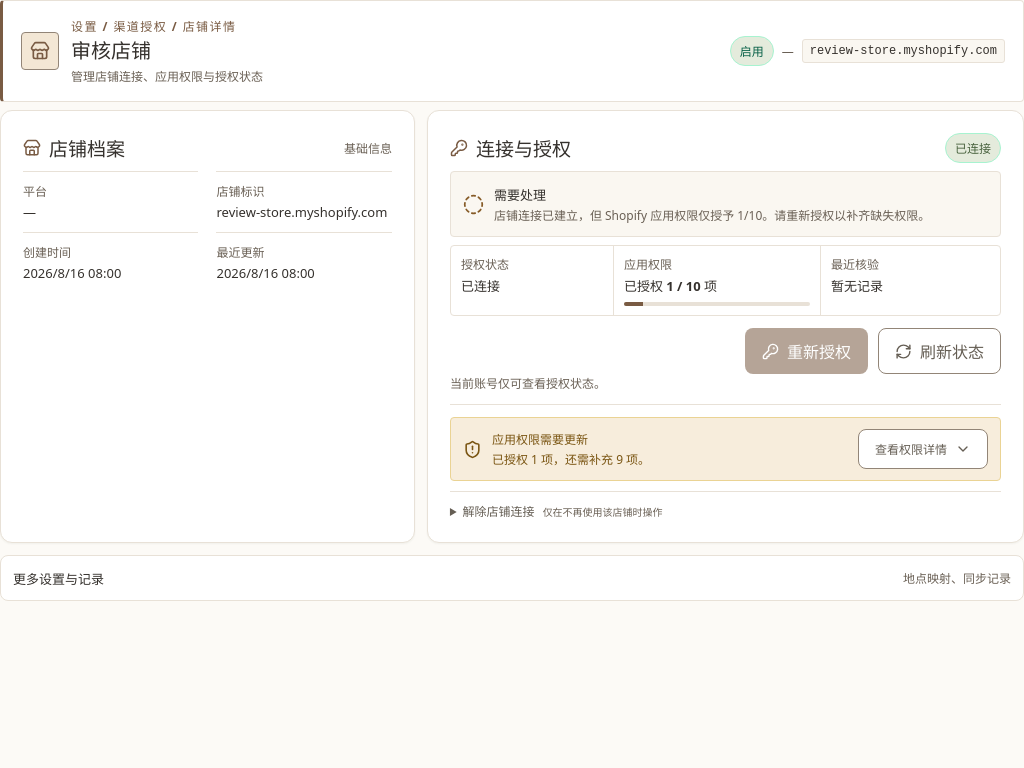
Test: ShopDetailPage controls › mounts the compact permission summary and reauthorization on a connected Shopify store
Expected: the heading "连接与授权" is shown, [476,134,571,162]
Expected: the text "已授权 1 项，还需补充 9 项。" is shown, [492,450,650,468]
Step 1. Click the button "查看权限详情" → coordinates (923, 449), box [858,429,988,469]
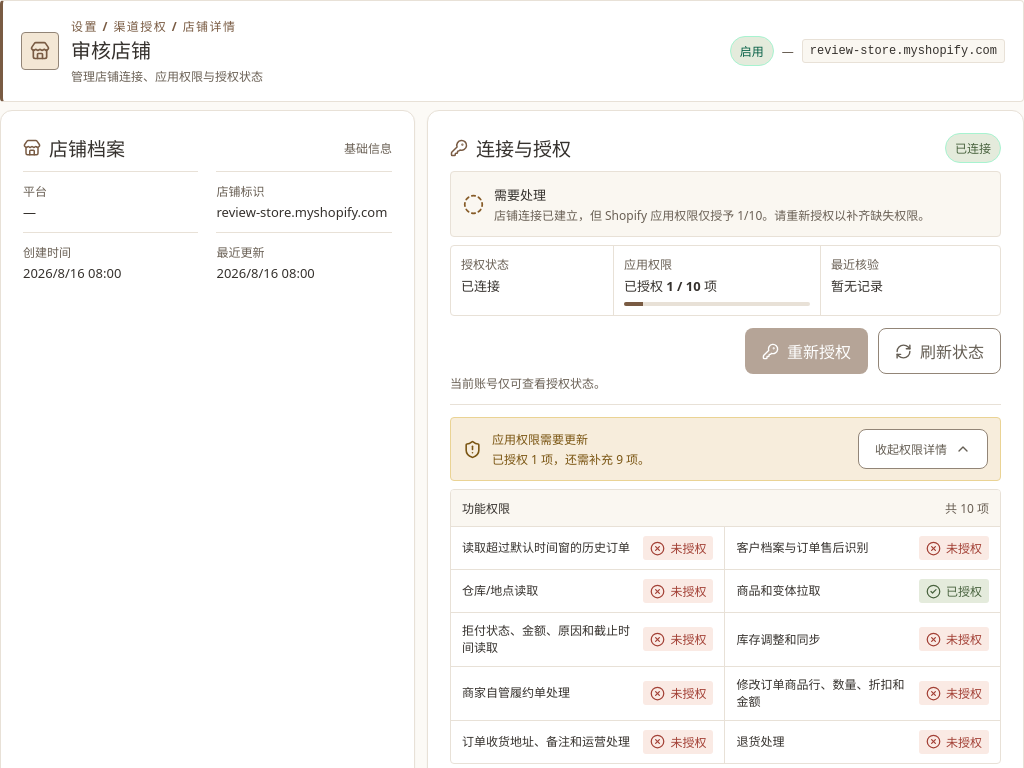
Result: the text "读取超过默认时间窗的历史订单" is shown at [462,539,630,557]
